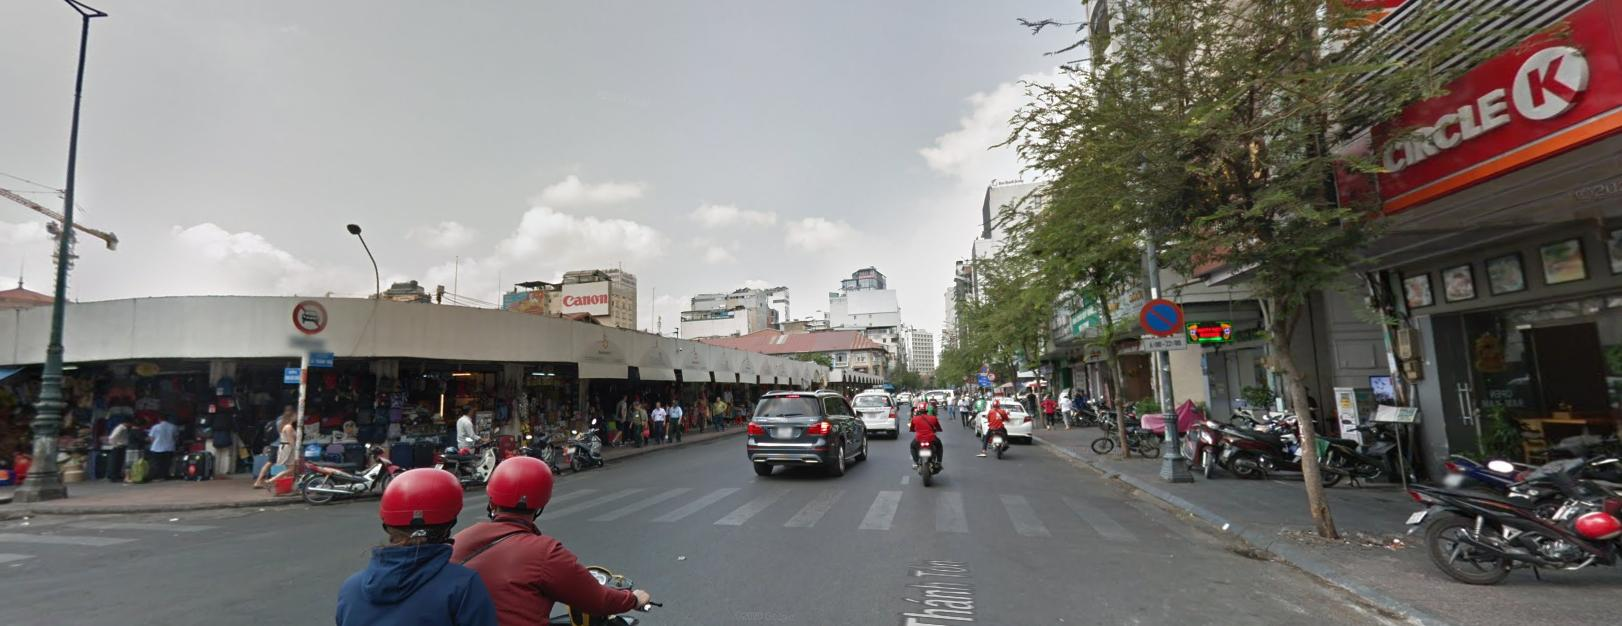Cam con lai: (290, 295, 328, 336)
Cam dung va do: (1138, 295, 1185, 336), (979, 363, 987, 369)
Cam re: (986, 371, 997, 380)
